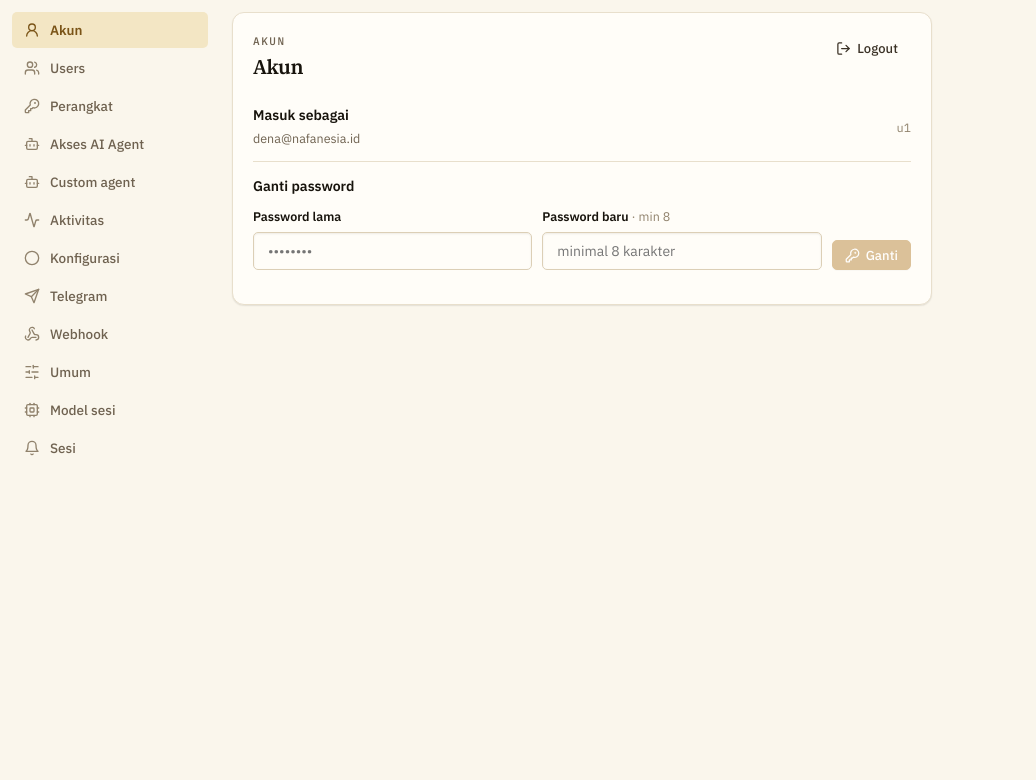
Test: SPEC-383 · tab Model sesi bersumbu agen › agent codex → penandanya bertukar
Click the button "Model sesi": (110, 410) x1=12 y1=392 x2=208 y2=428
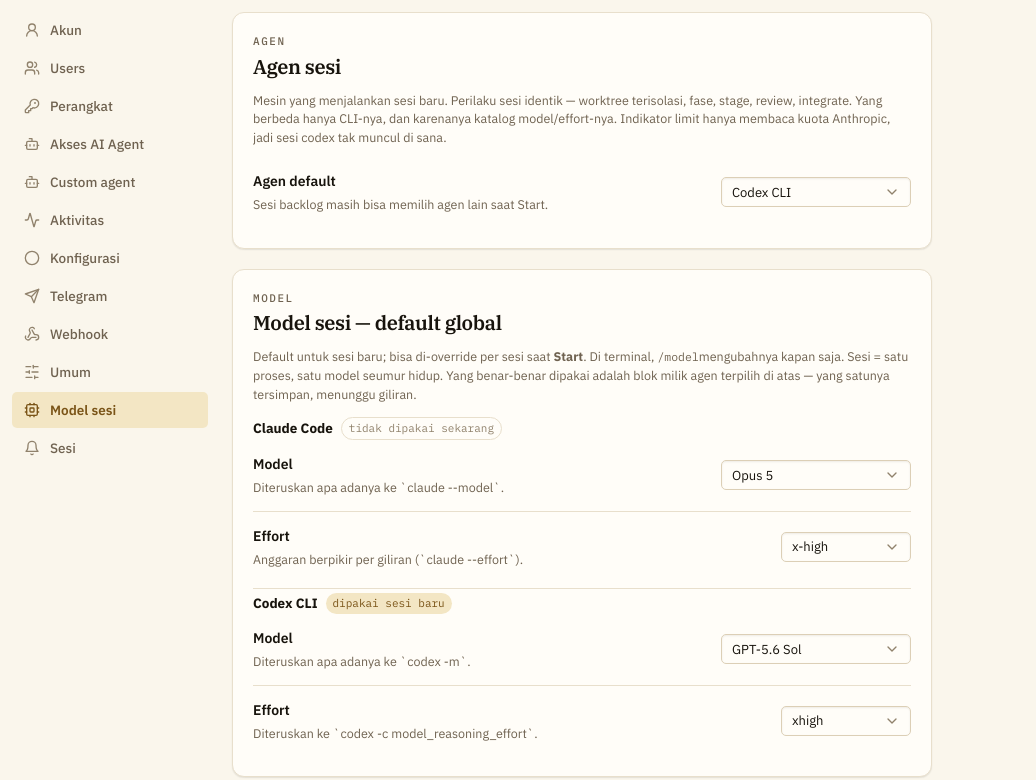
expect the text with test id "agent-badge-codex" reads "dipakai sesi baru": met, box x1=332 y1=596 x2=445 y2=610
expect the text with test id "agent-badge-claude" reads "tidak dipakai sekarang": met, box x1=349 y1=421 x2=494 y2=435
